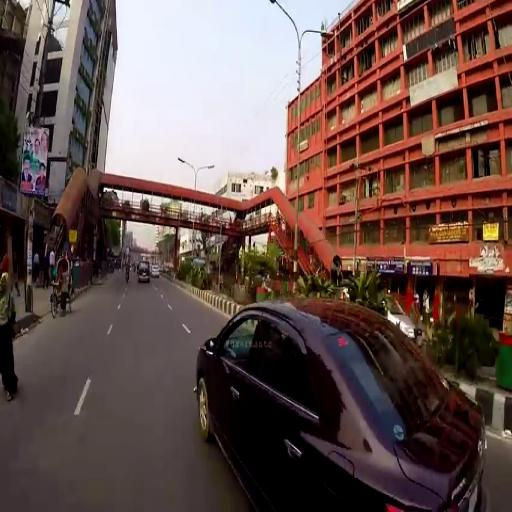car: (195, 295, 489, 512), (151, 264, 160, 277)
rickshaw: (50, 256, 76, 318)
van: (138, 260, 151, 281)
